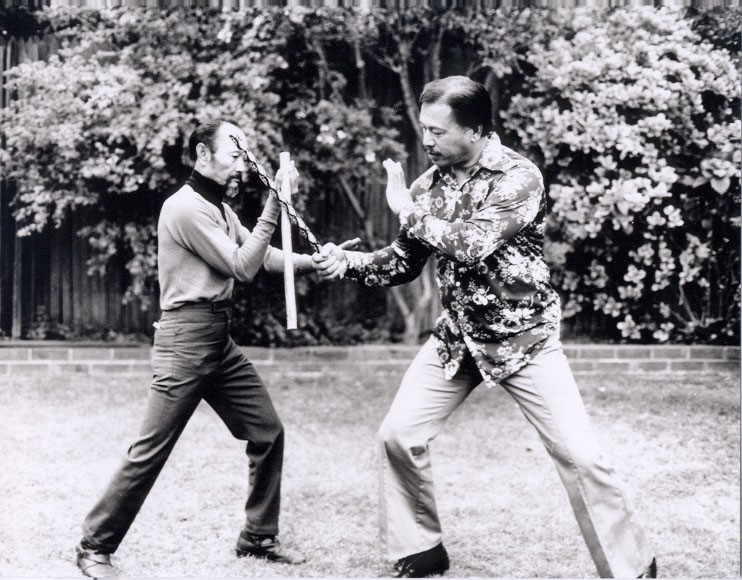baston_e: (247, 164, 321, 244), (278, 157, 298, 326)
baston_v: (282, 320, 301, 333), (276, 146, 292, 161), (226, 130, 241, 144), (332, 270, 346, 282)
